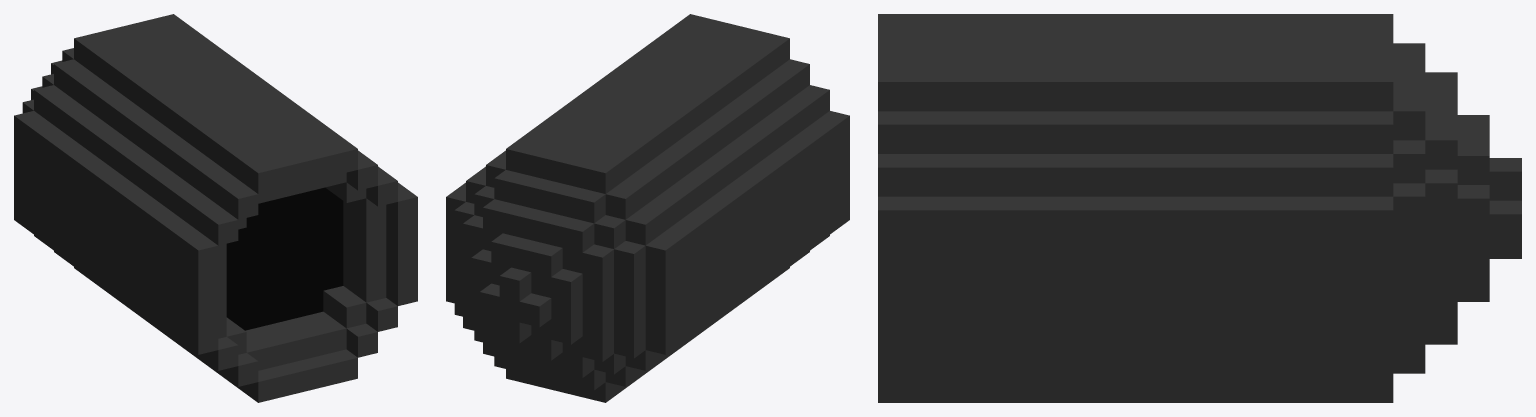
File: Cannon2.obj
The picture shows the model from 3 angles, left to right: view 1: azimuth 30°, elevation 25°; view 2: azimuth 150°, elevation 25°; view 3: azimuth 270°, elevation 25°; orthographic projection. The views are drawn at different scales.
Size of the model in its own units: 1.1 by 1.1 by 2.
Materials: 1 (1 with a texture image).
